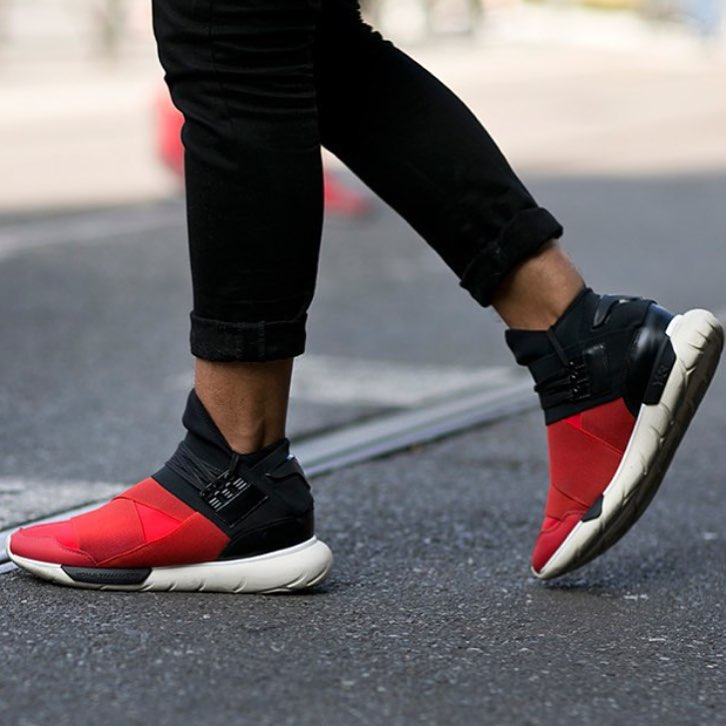sneaker: (1, 337, 359, 613), (476, 226, 726, 606)
